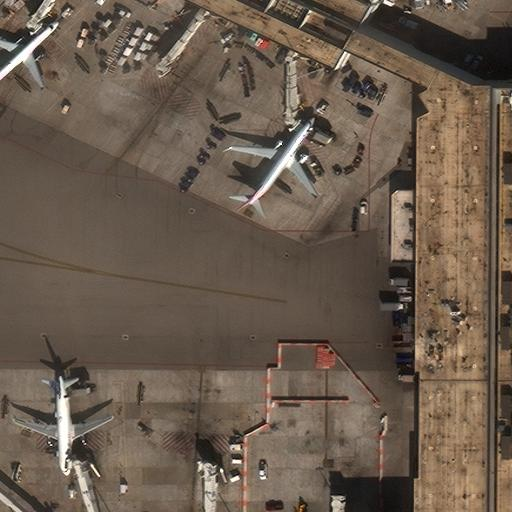Large Civil Transport: (221, 116, 317, 212)
Medium Civil Transport: (13, 374, 114, 476), (0, 22, 58, 91)
